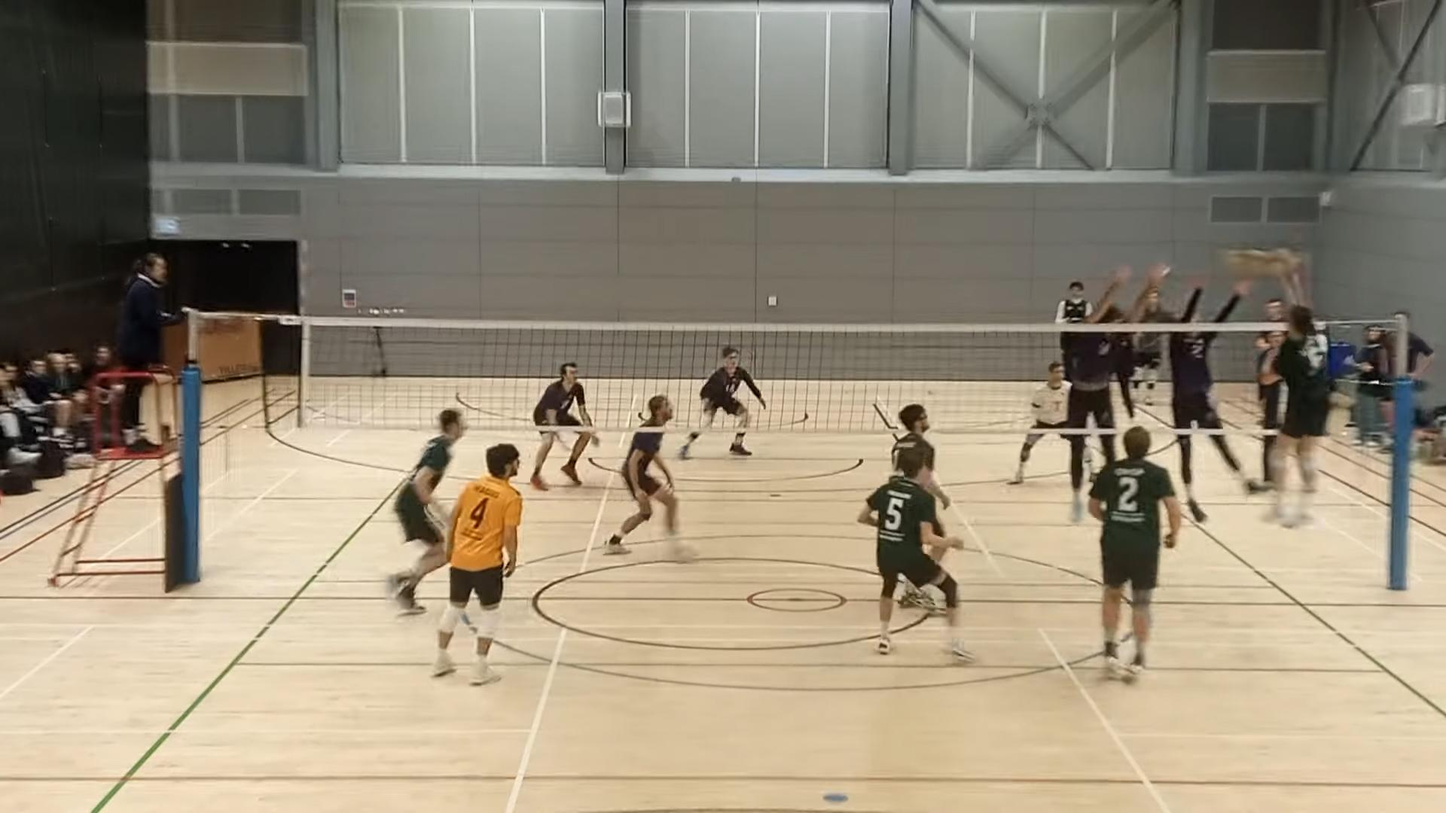attacco: (1243, 251, 1350, 535)
muro: (1054, 250, 1170, 529), (1167, 263, 1269, 524)
